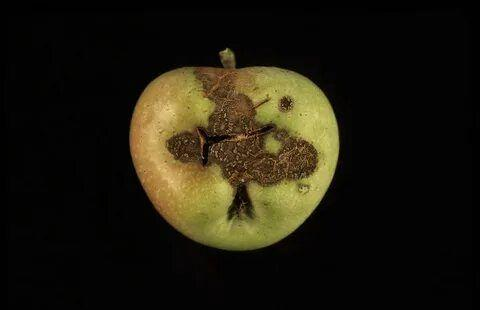Apple: (130, 66, 340, 250)
